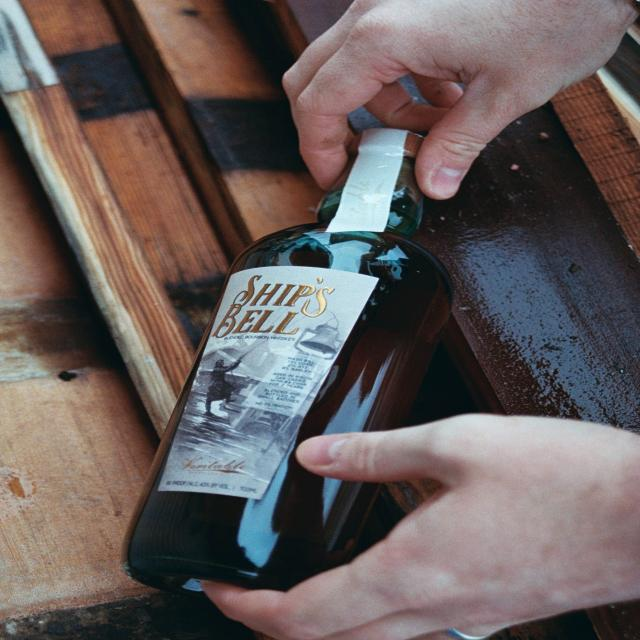Bottle: (125, 130, 451, 591)
